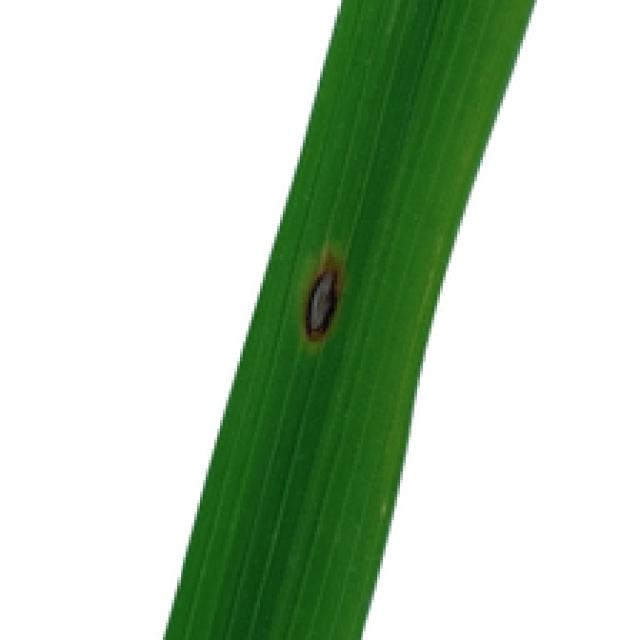Rice___Rice_Blast: (160, 0, 536, 637)
